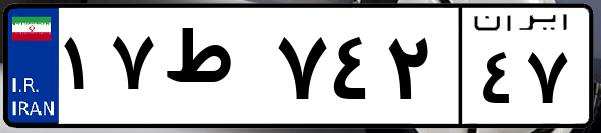1: (57, 26, 110, 100)
2: (385, 28, 445, 110)
4: (330, 28, 385, 110), (475, 38, 525, 113)
7: (270, 28, 330, 110), (525, 38, 570, 115), (110, 28, 158, 98)
ط: (158, 20, 270, 120)
